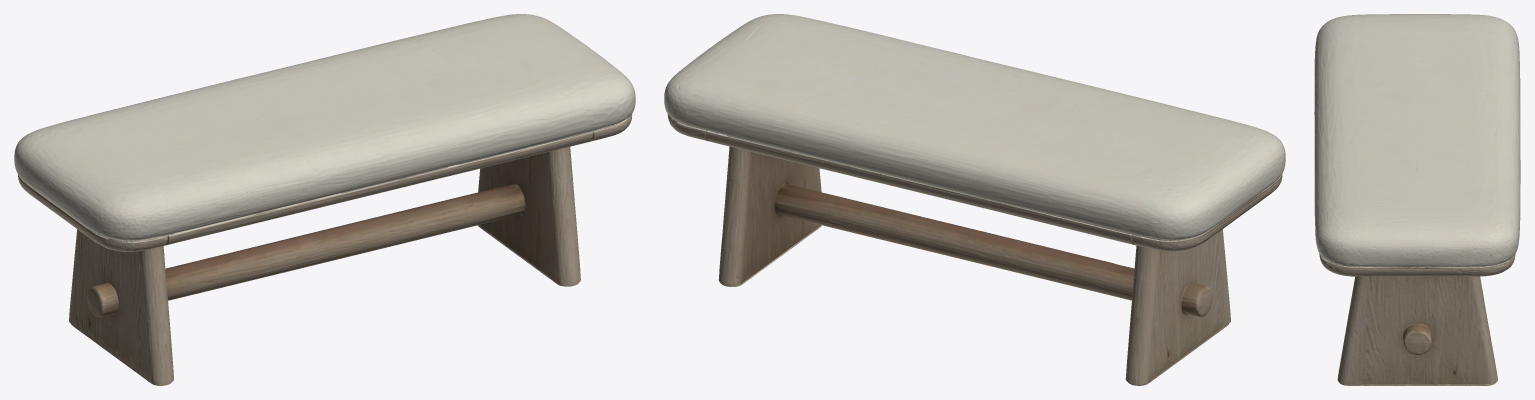
The model's file is gallery-bench.glb.
3 renders of one model, left to right at view 1: azimuth 30°, elevation 25°; view 2: azimuth 150°, elevation 25°; view 3: azimuth 270°, elevation 25°, orthographic. The views are drawn at different scales.
Visible parts, largest first — view 1: world; view 2: world; view 3: world.
Boxes of the visible parts, x1=… form: world: x1=14, y1=14, x2=635, y2=385; world: x1=664, y1=14, x2=1285, y2=385; world: x1=1314, y1=14, x2=1520, y2=385.
Size of the model in its own units: 0.9999 by 0.3537 by 0.3762.
Materials: 1 (1 with a texture image).
